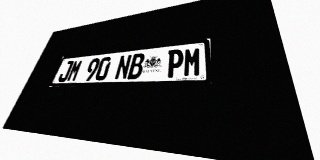0: (94, 56, 112, 81)
9: (83, 58, 101, 81)
B: (127, 53, 145, 79)
J: (57, 60, 74, 82)
M: (183, 47, 201, 77), (66, 59, 84, 82)
N: (114, 54, 132, 80)
P: (165, 49, 184, 78)
